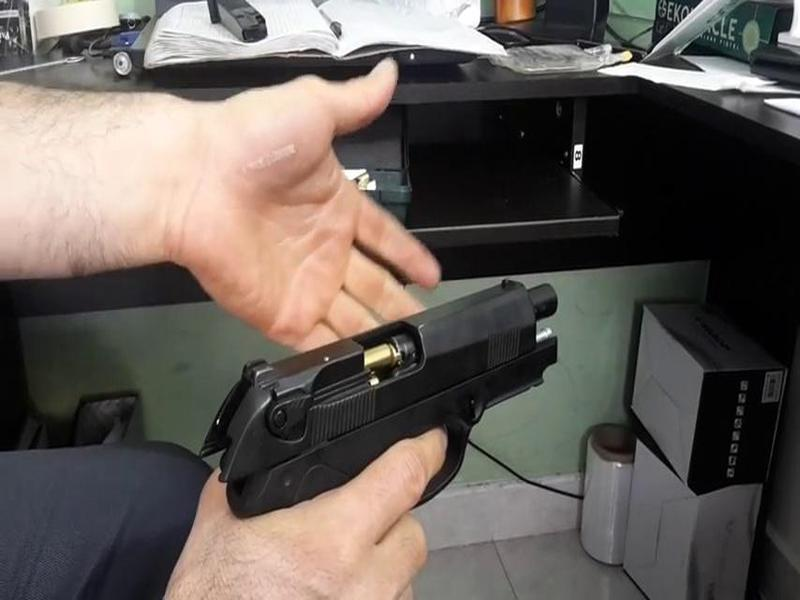Pistola: (202, 253, 566, 543)
